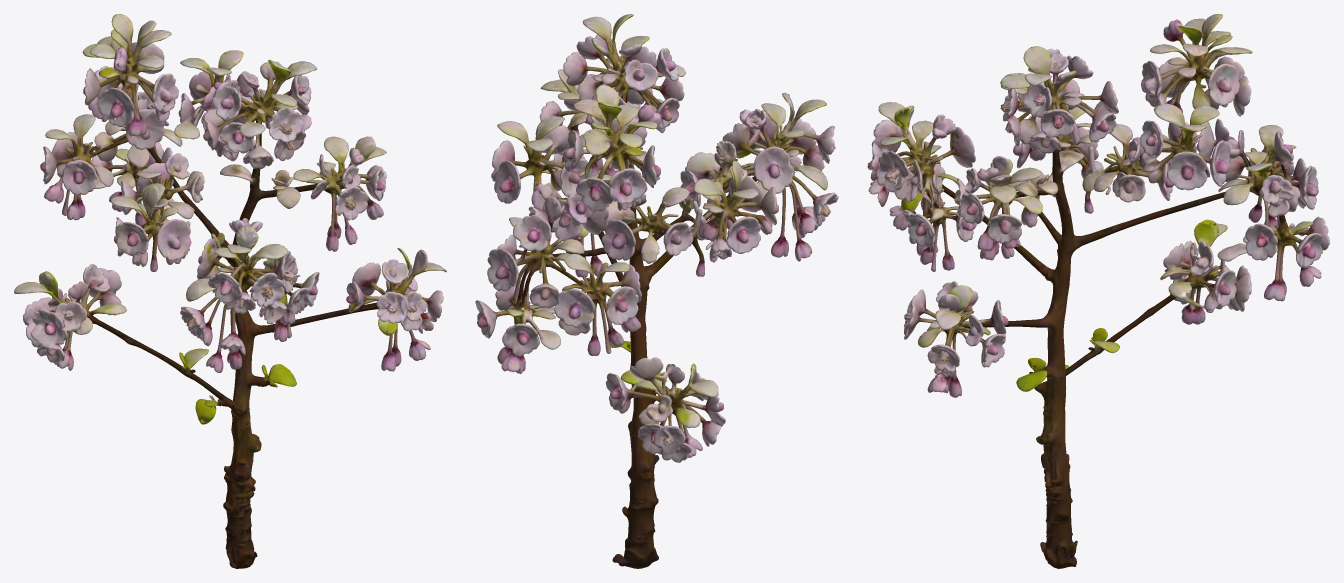
Rendered from ChuiSiHaiTang.glb.
3 renders of one model, left to right at view 1: azimuth 30°, elevation 25°; view 2: azimuth 150°, elevation 25°; view 3: azimuth 270°, elevation 25°, orthographic. The views are drawn at different scales.
Visible parts, largest first — view 1: tripo_node_6663607f-900a-4652-9aa6-f9f99dbd8aee; view 2: tripo_node_6663607f-900a-4652-9aa6-f9f99dbd8aee; view 3: tripo_node_6663607f-900a-4652-9aa6-f9f99dbd8aee.
Boxes of the visible parts, x1=… form: tripo_node_6663607f-900a-4652-9aa6-f9f99dbd8aee: x1=14, y1=14, x2=446, y2=568; tripo_node_6663607f-900a-4652-9aa6-f9f99dbd8aee: x1=475, y1=14, x2=838, y2=568; tripo_node_6663607f-900a-4652-9aa6-f9f99dbd8aee: x1=867, y1=14, x2=1329, y2=568.
Size of the model in its own units: 0.604 by 0.981 by 0.7766.
1 material, 1 textured.
